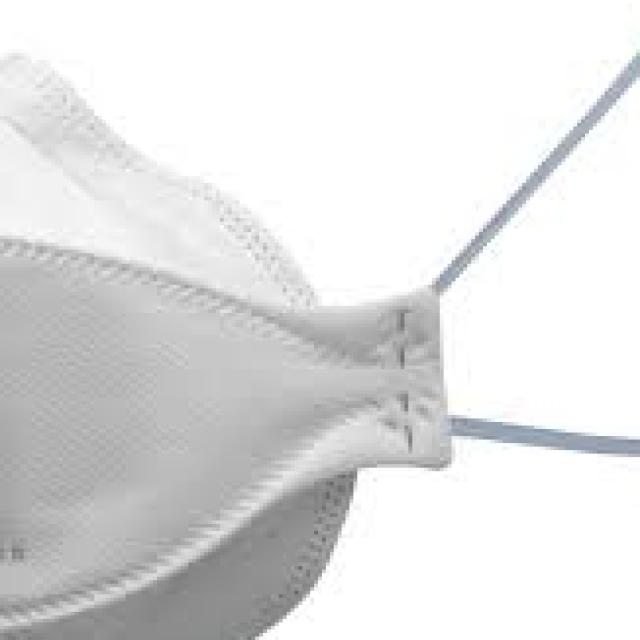organic: (6, 31, 622, 614)
